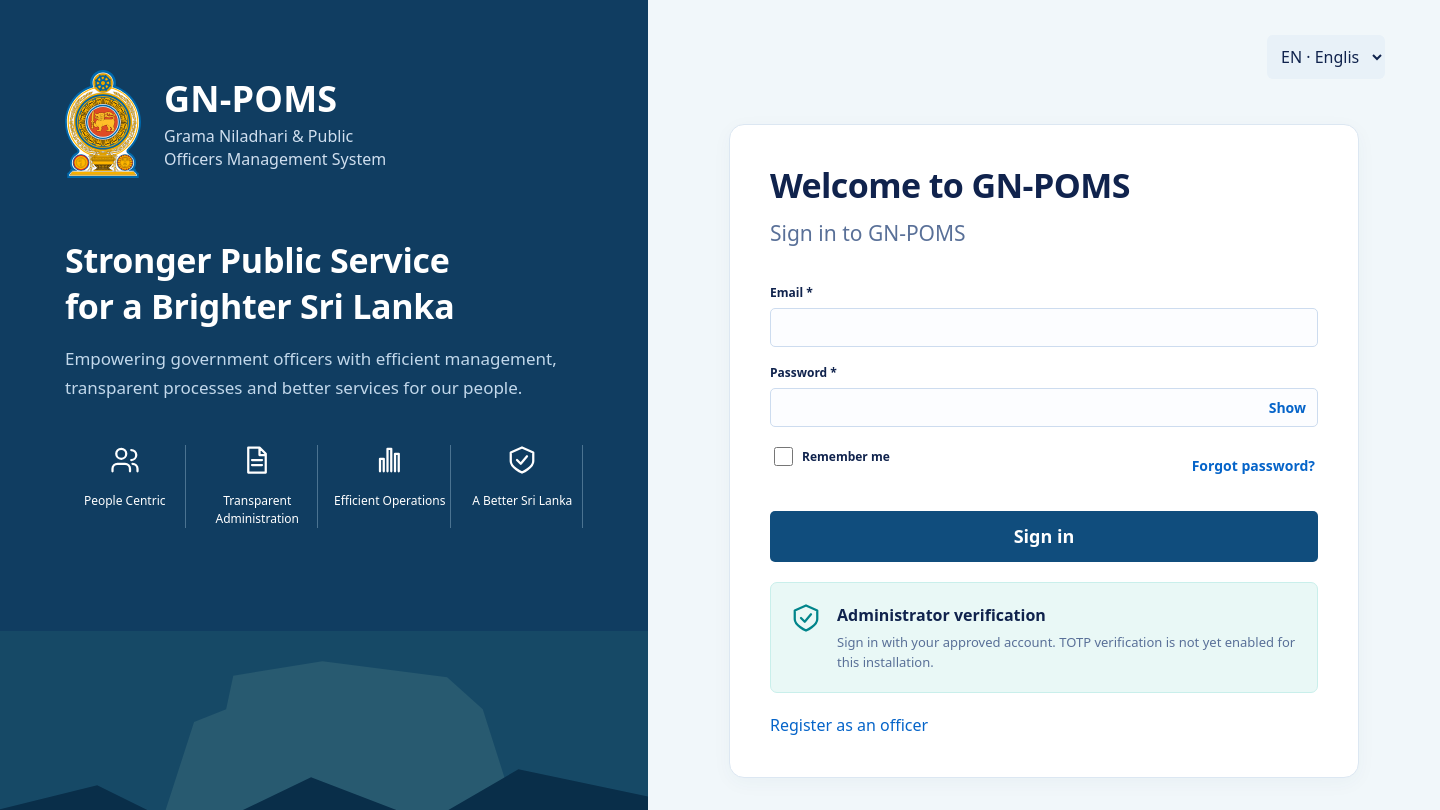
React application workflows › signs in, renders the dashboard, and signs out
Type "admin@example.test" into the field labelled "Email *" at (1044, 328), box left=770, top=308, right=1318, bottom=347
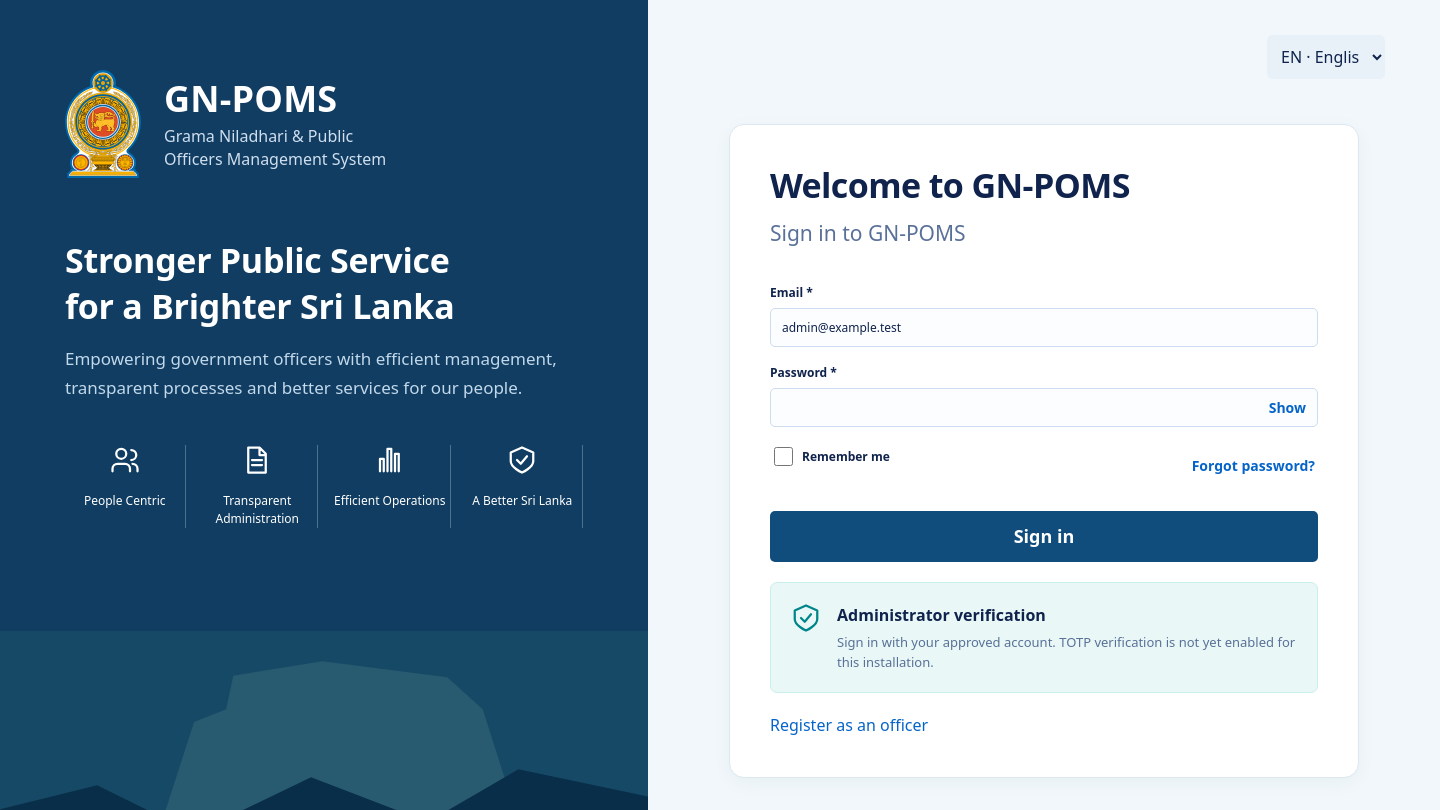
Type "password" into the password field labelled "Password *" at (1044, 408), box left=770, top=388, right=1318, bottom=427
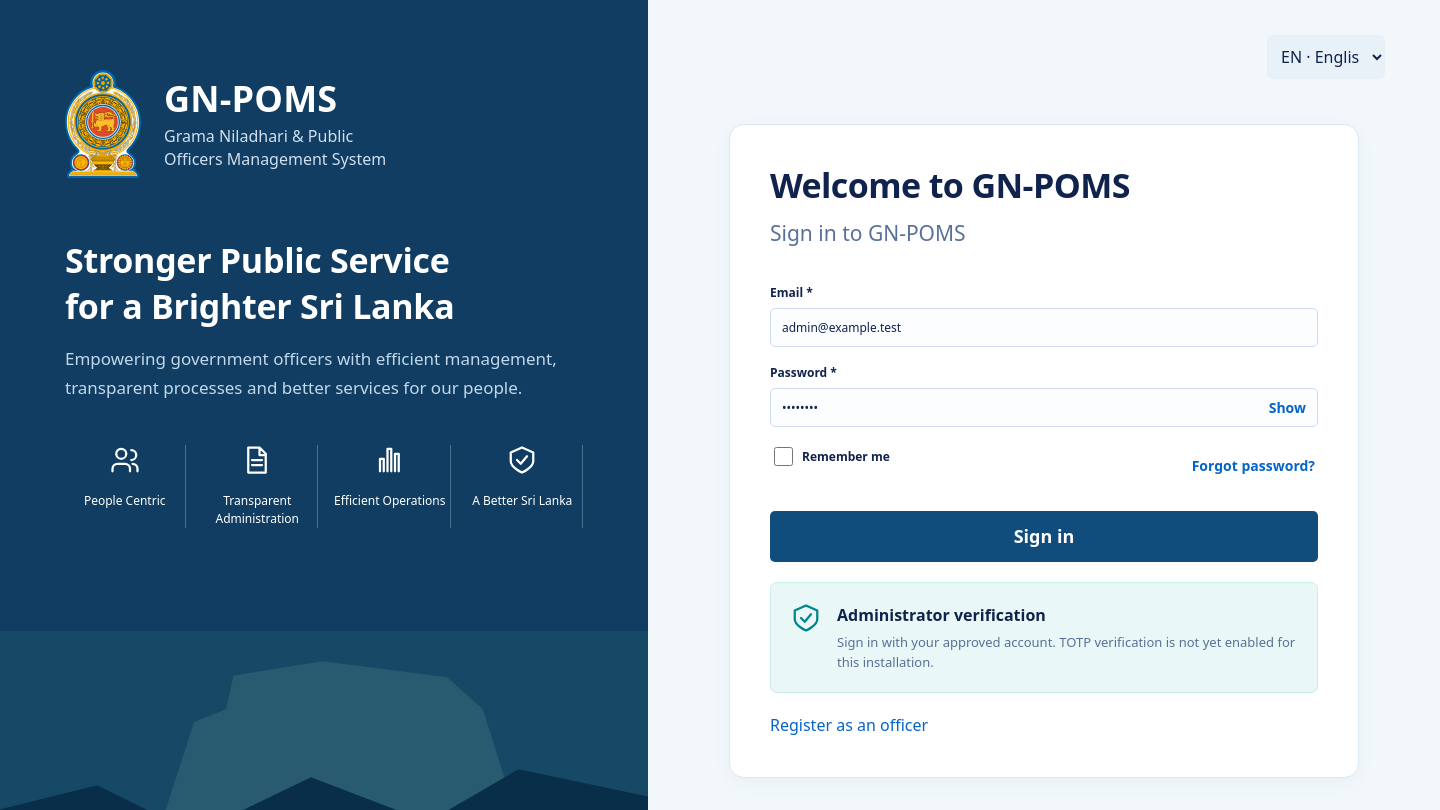
Click the button "Sign in" at (1044, 537), box left=770, top=511, right=1318, bottom=562
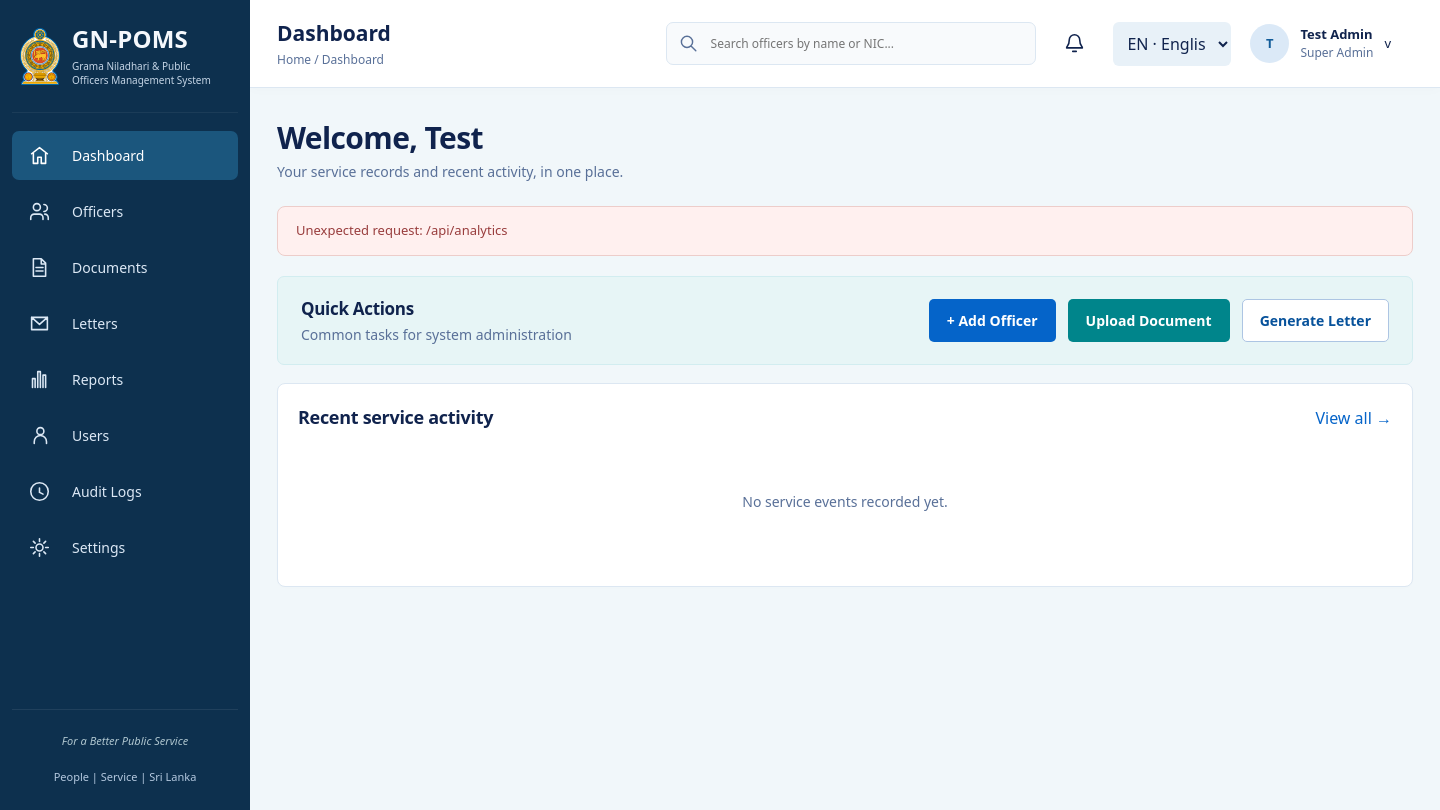
Result: the heading "Welcome, Test" is shown at left=277, top=117, right=483, bottom=158
Result: the link "Users" is shown at left=29, top=425, right=109, bottom=446
Click the heading "T Test Admin Super Admin v" at (1321, 44), box left=1250, top=24, right=1391, bottom=63
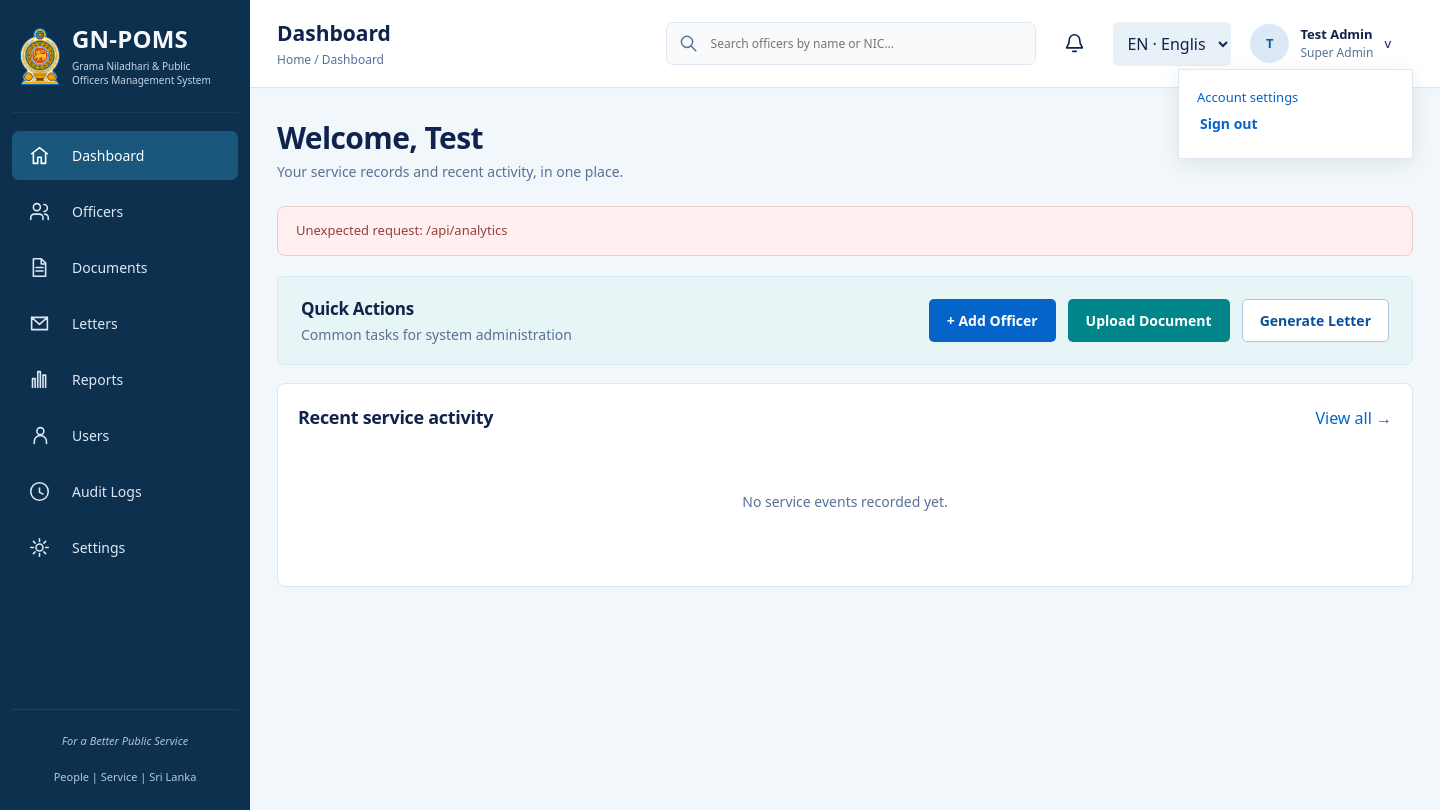
Click the button "Sign out" at (1229, 124), box left=1197, top=108, right=1261, bottom=140
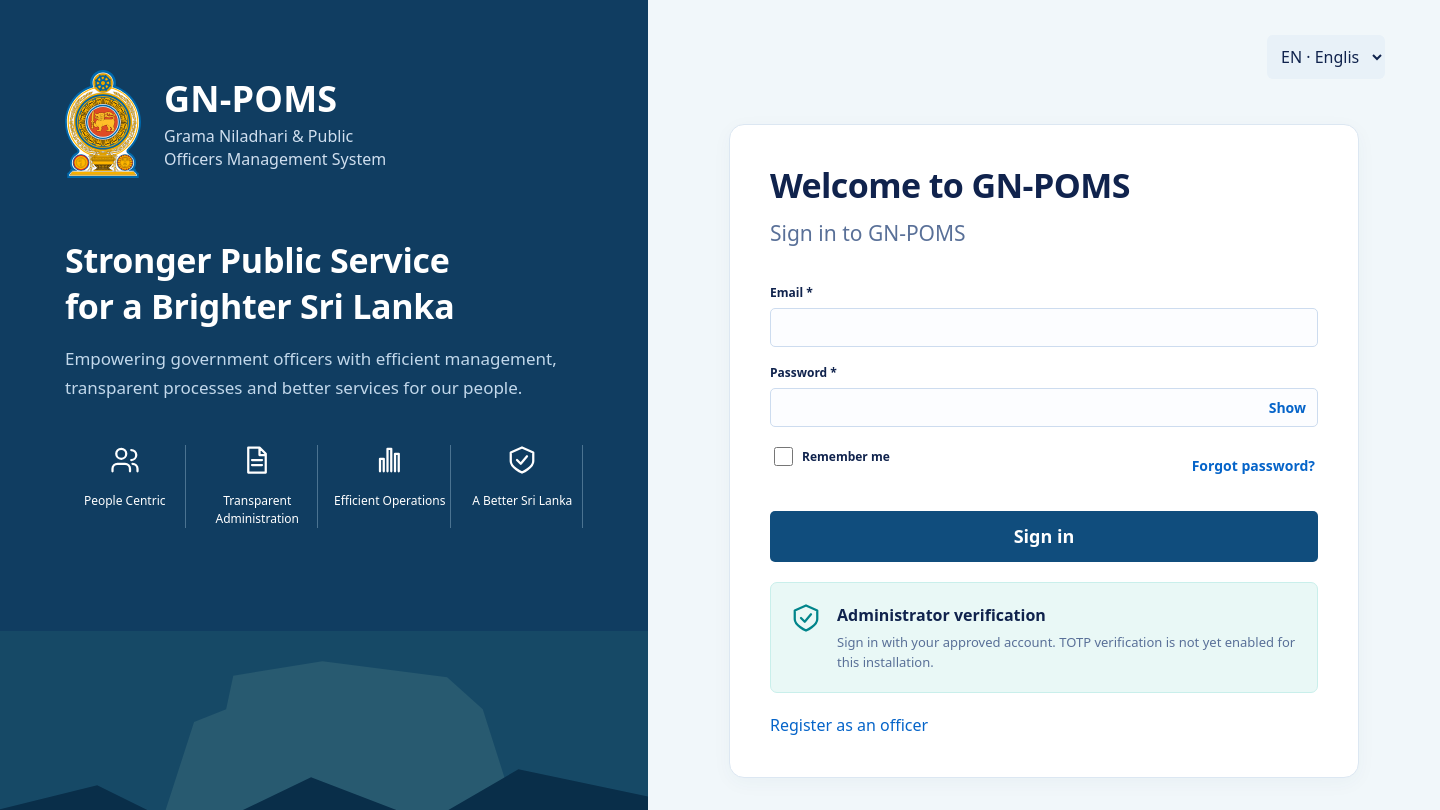
Result: the heading "Welcome to GN-POMS" is shown at left=770, top=162, right=1130, bottom=208
